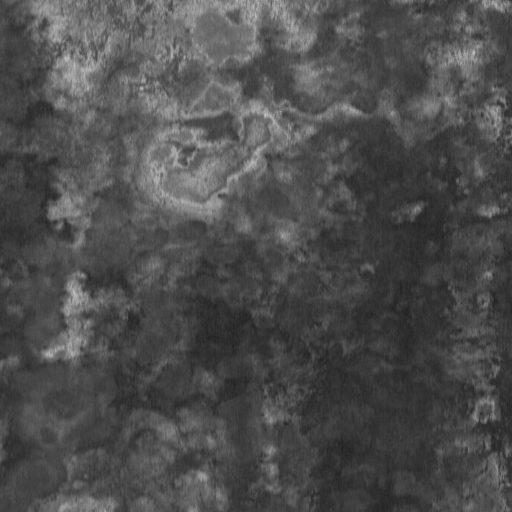aokeng: (132, 103, 282, 215)
